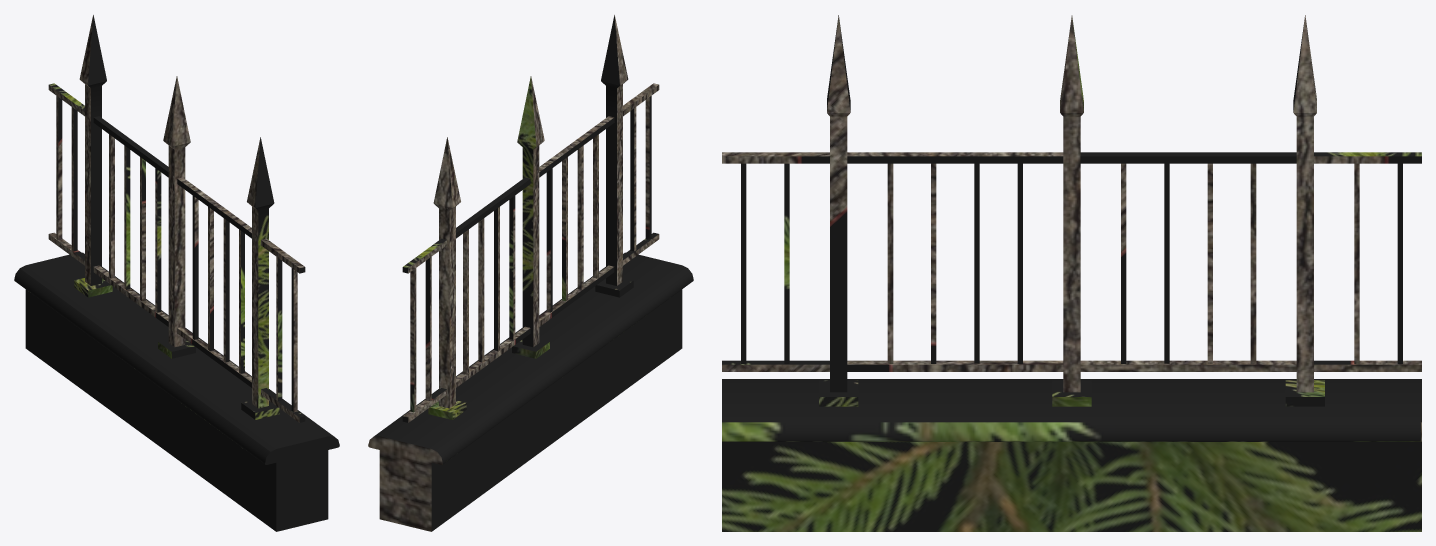
File: valla1.gltf
The picture shows the model from 3 angles, left to right: view 1: azimuth 30°, elevation 25°; view 2: azimuth 150°, elevation 25°; view 3: azimuth 270°, elevation 25°; orthographic projection. The views are drawn at different scales.
Visible parts, largest first — view 1: Fence1.002, Fence1.002_met_0; view 2: Fence1.002, Fence1.002_met_0; view 3: Fence1.002, Fence1.002_met_0.
Part boxes in pixels (x1,y1,x2,y2): Fence1.002: (14,252,339,531); Fence1.002_met_0: (48,15,305,422); Fence1.002: (368,252,693,531); Fence1.002_met_0: (402,15,659,422); Fence1.002: (722,379,1421,531); Fence1.002_met_0: (722,15,1421,406).
Bounding box in the file's own units: 0.5318 × 2.43 × 3.09.
